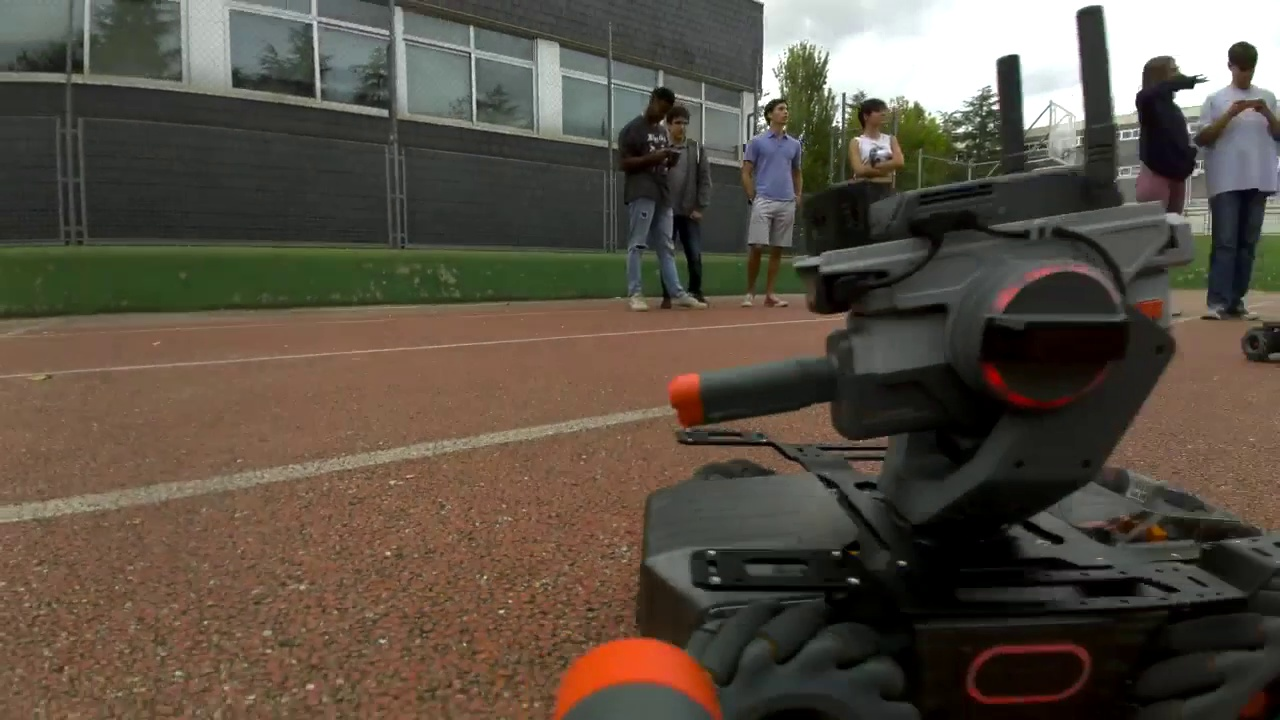robot: (642, 167, 1280, 720)
